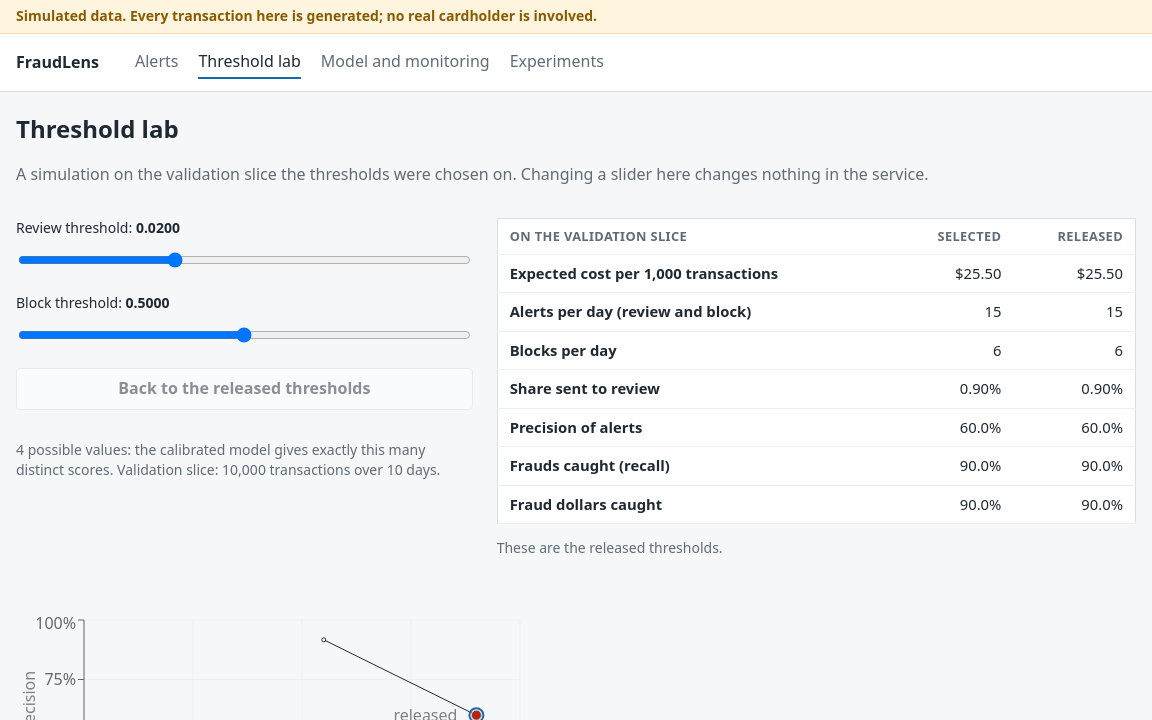
threshold lab › starts at the released thresholds and reprices when a slider moves
Expected: the text "$25.50" is shown 2 times, x1=894 y1=254 x2=1013 y2=293; x1=1013 y1=254 x2=1136 y2=293
Expected: the text "These are the released thresholds." is shown, x1=497 y1=538 x2=723 y2=557
Set the slider labelled "Review threshold: 0.0200" to "0" at (26, 260), box x1=18 y1=244 x2=471 y2=275
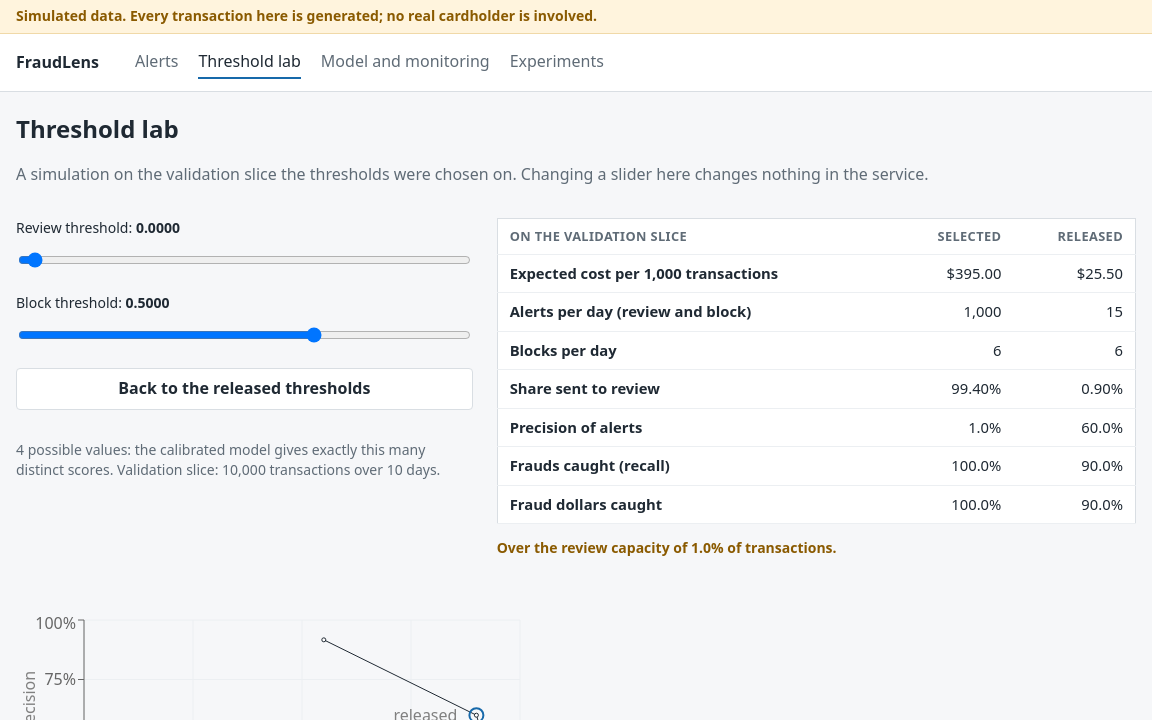
Result: the text "$395.00" is shown at x1=894 y1=254 x2=1013 y2=293
Result: the text "Over the review capacity of 1.0% of transactions." is shown at x1=497 y1=538 x2=837 y2=557
Click the button "Back to the released thresholds" at (244, 389), box x1=16 y1=368 x2=473 y2=410
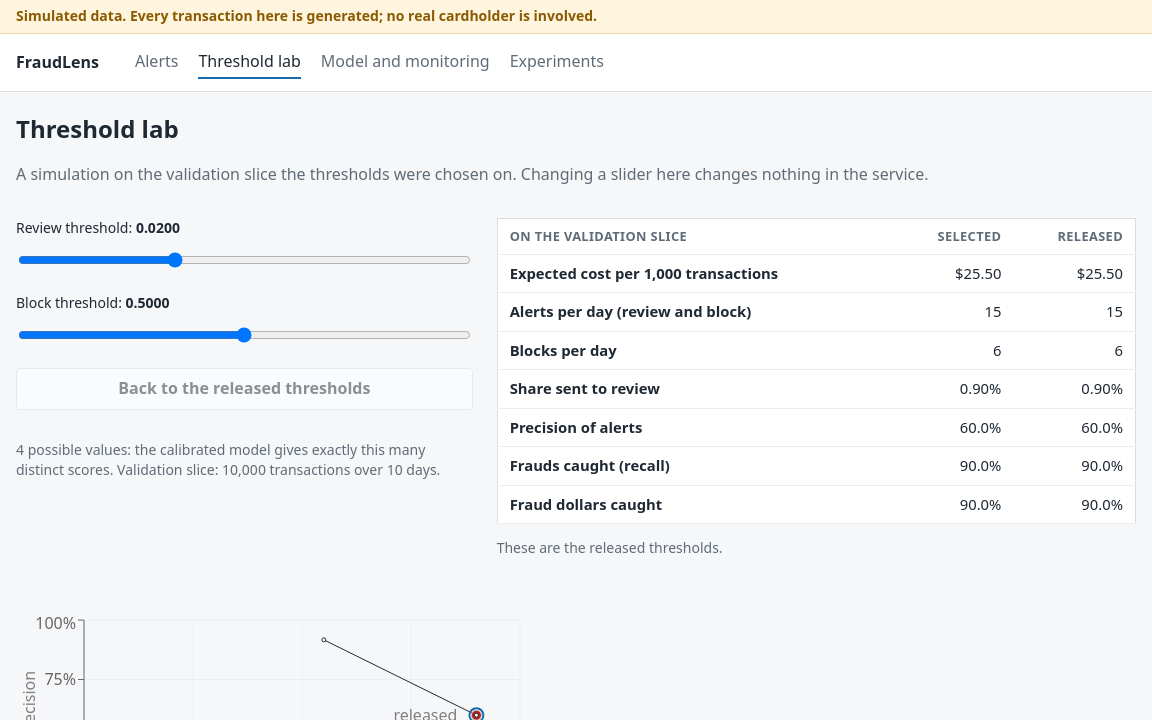
Result: the text "These are the released thresholds." is shown at x1=497 y1=538 x2=723 y2=557
